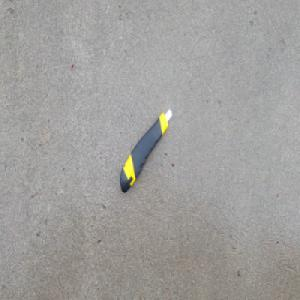Cutter: (119, 107, 174, 195)
